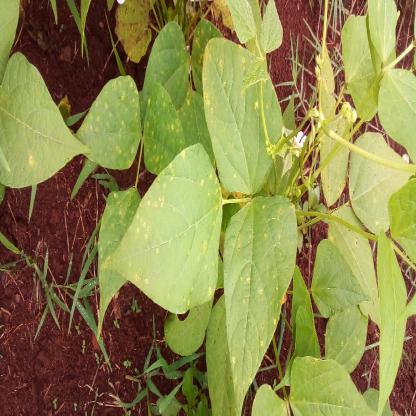Beans_Rust: (105, 141, 225, 316), (225, 196, 298, 411), (200, 39, 285, 193), (0, 50, 90, 188), (95, 188, 146, 333), (79, 76, 142, 170), (144, 23, 189, 107), (146, 86, 187, 176), (194, 21, 224, 95)
